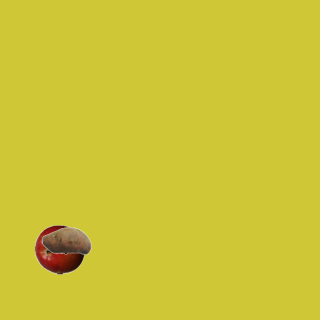Apple Braeburn: (34, 224, 84, 274)
Potato Sweet: (41, 215, 91, 265)
